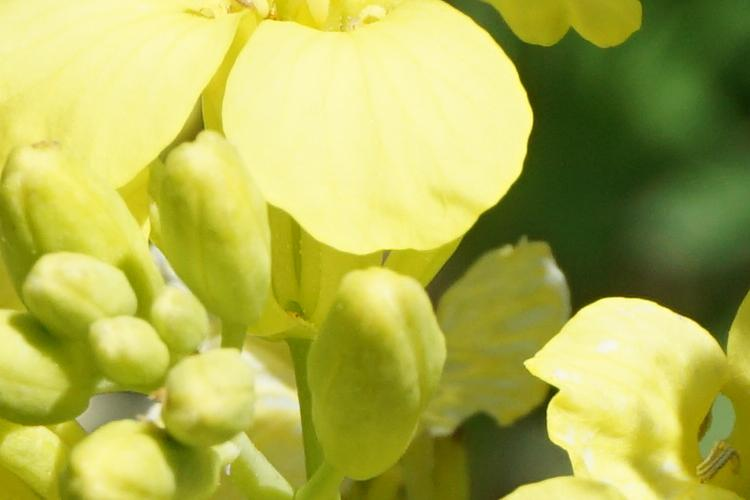bud: (289, 277, 444, 469), (151, 124, 282, 329), (14, 138, 153, 284), (75, 403, 229, 494), (27, 244, 144, 340), (2, 299, 89, 422), (151, 357, 262, 441), (87, 314, 177, 401), (151, 286, 213, 354)
yellow: (22, 7, 575, 226), (582, 307, 749, 500)
